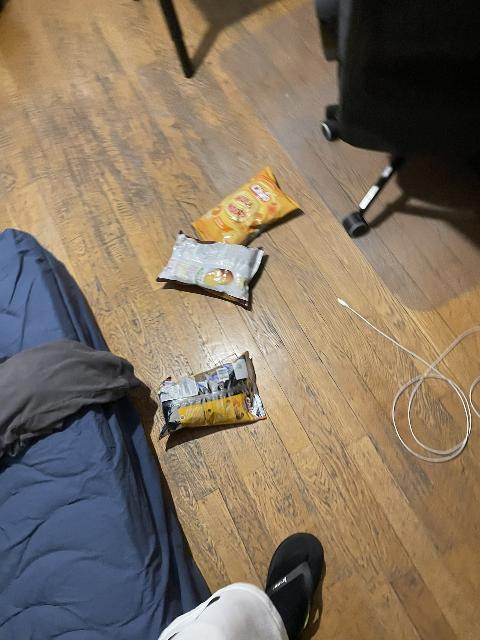Chio Cascaval 125g: (156, 349, 268, 439)
Chio Hula Hoops Cheese 70g: (189, 166, 301, 247)
Lays Beef Grilled Ribs 125g: (157, 233, 266, 305)
